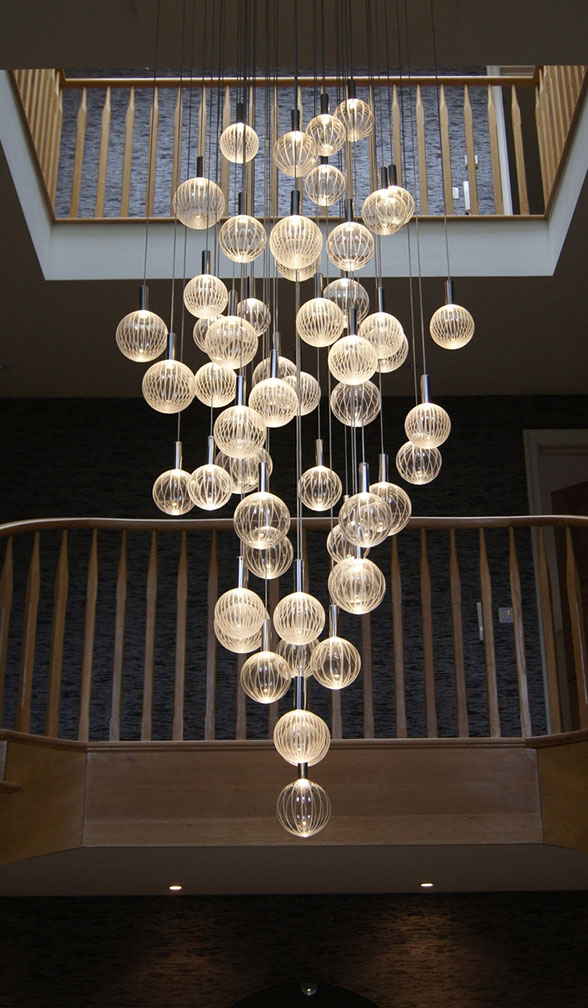chandelier: (115, 2, 490, 851)
